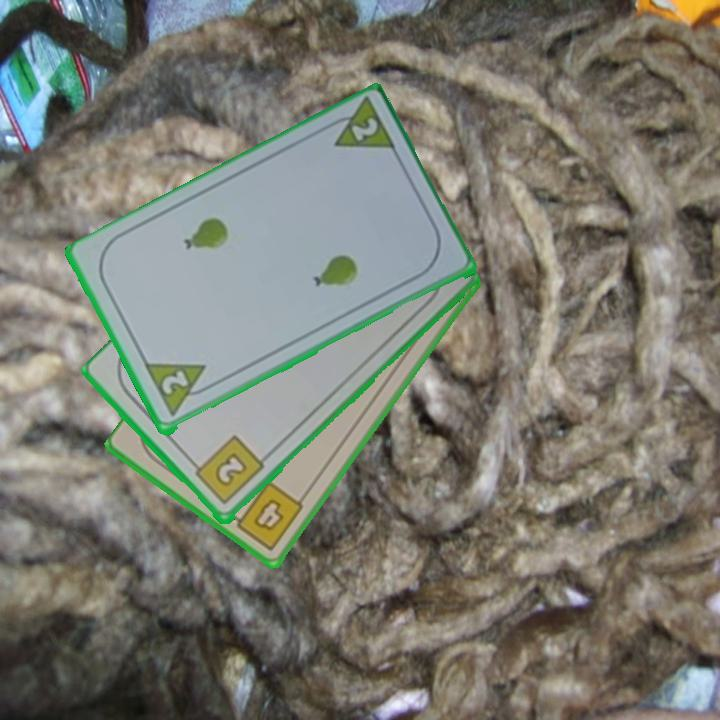2b: (187, 432, 267, 508)
2p: (141, 359, 218, 420), (347, 114, 381, 145)
4b: (226, 477, 307, 554)
